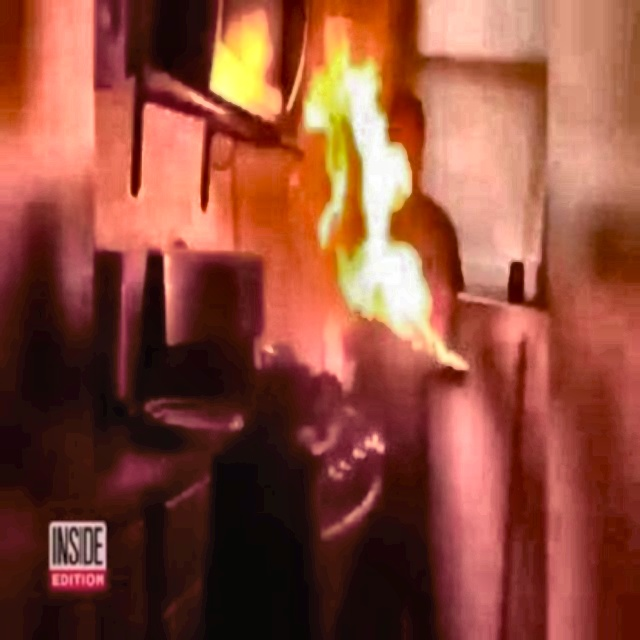fire: (200, 0, 477, 370)
